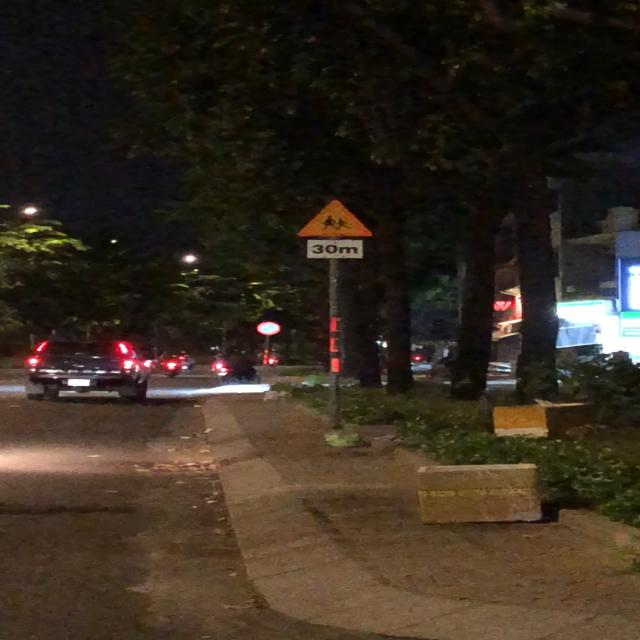Bien bao tre em: (294, 197, 376, 240)
